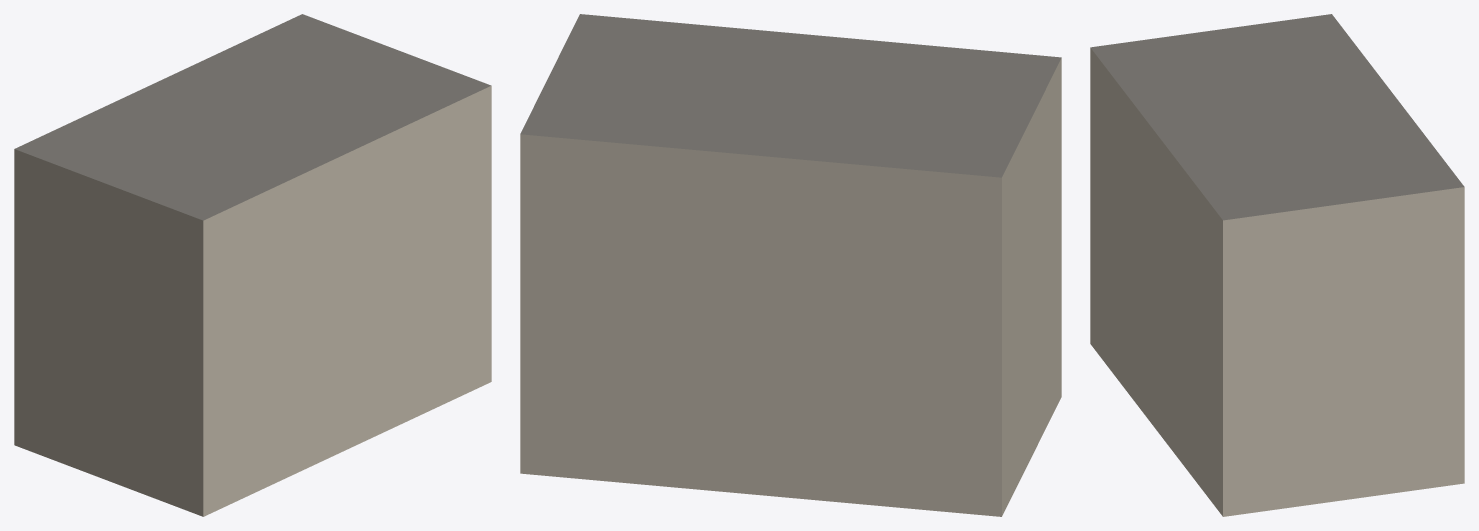
3 views of the same model, side by side, from view 1: azimuth 30°, elevation 25°; view 2: azimuth 150°, elevation 25°; view 3: azimuth 270°, elevation 25° (orthographic). The views are drawn at different scales.
Parts seen in each view (by area): view 1: HP-w380339917; view 2: HP-w380339917; view 3: HP-w380339917.
Boxes of the visible parts, x1,y1,x2,y2 form: HP-w380339917: (14, 14, 491, 516); HP-w380339917: (520, 14, 1061, 516); HP-w380339917: (1090, 14, 1464, 516).
Bounding box in the file's own units: 22.4 × 15 × 17.16.
